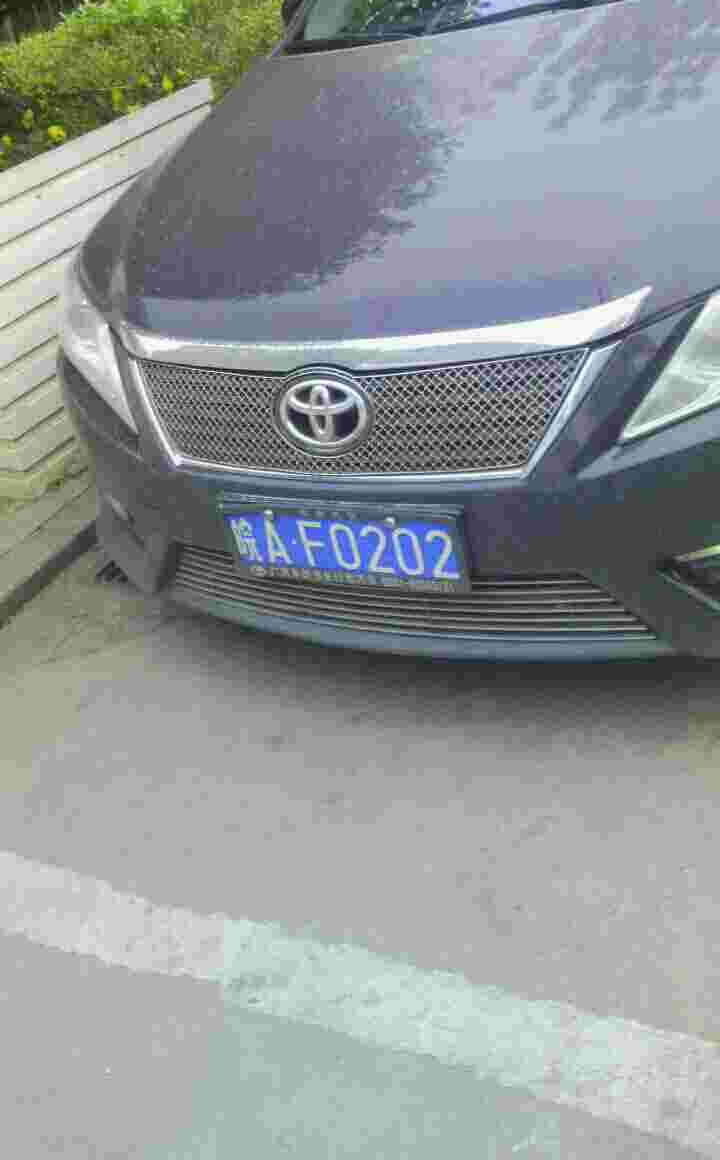license_plate: (230, 516, 470, 585)
